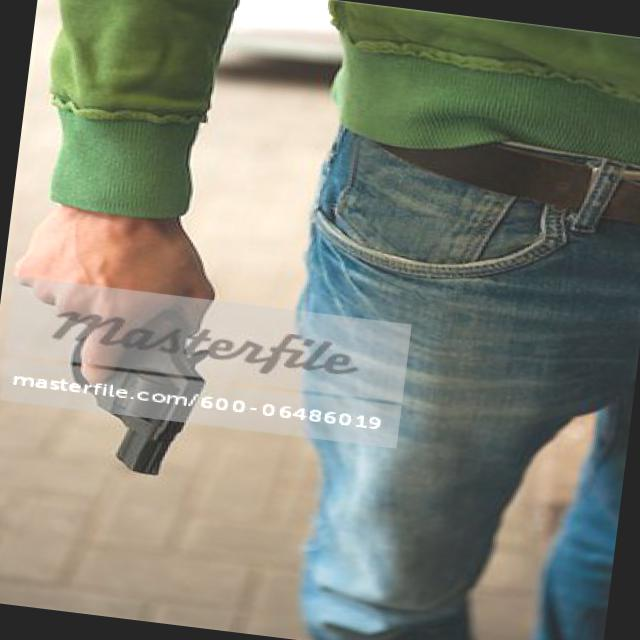handgun: (55, 270, 220, 482)
